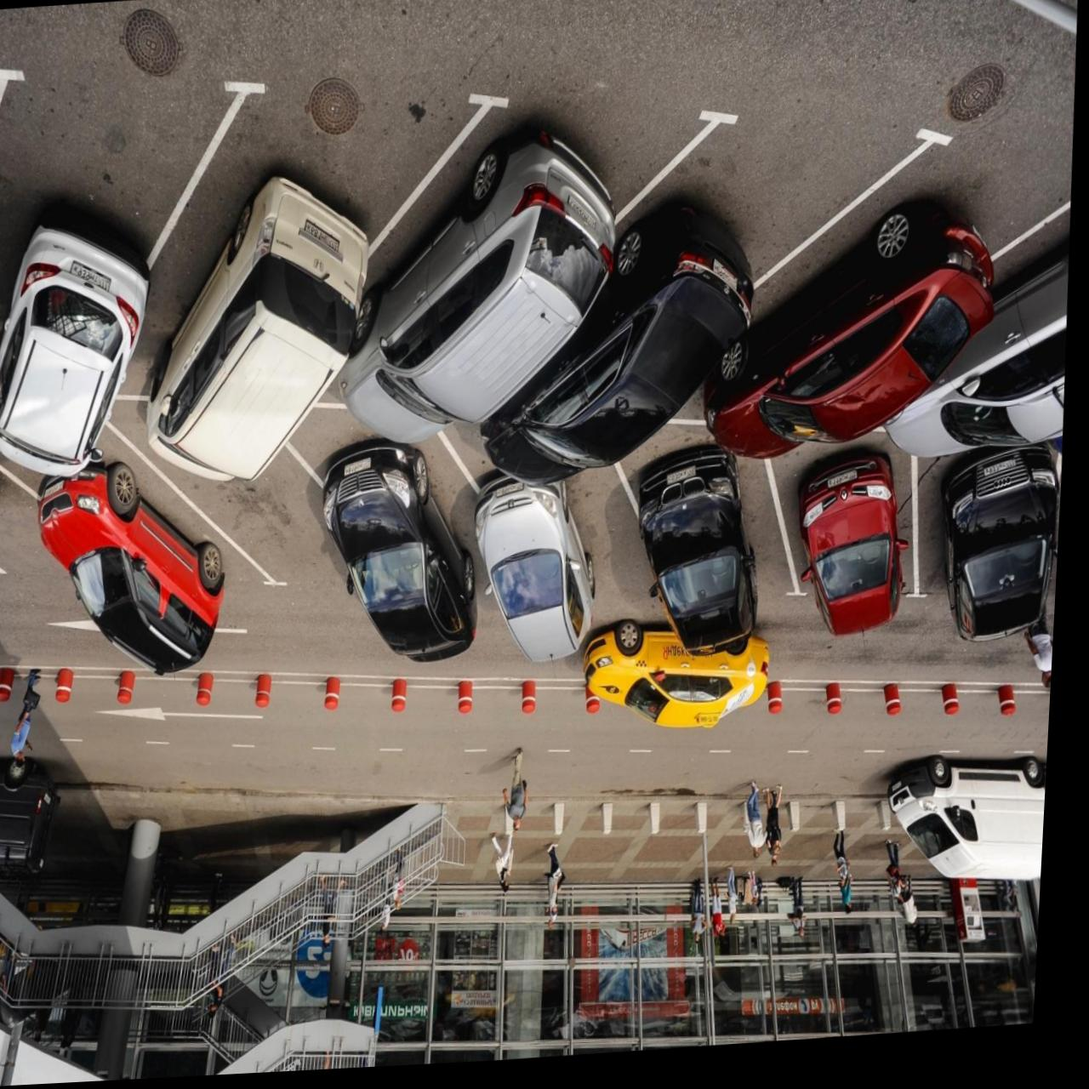cars: (490, 144, 817, 487), (325, 104, 637, 450), (718, 138, 1052, 454), (139, 119, 388, 454), (0, 99, 158, 441), (20, 451, 247, 630), (313, 417, 493, 638), (460, 453, 648, 635), (758, 447, 929, 625), (907, 436, 1058, 634), (622, 464, 786, 629)
empty: (172, 434, 360, 607)
